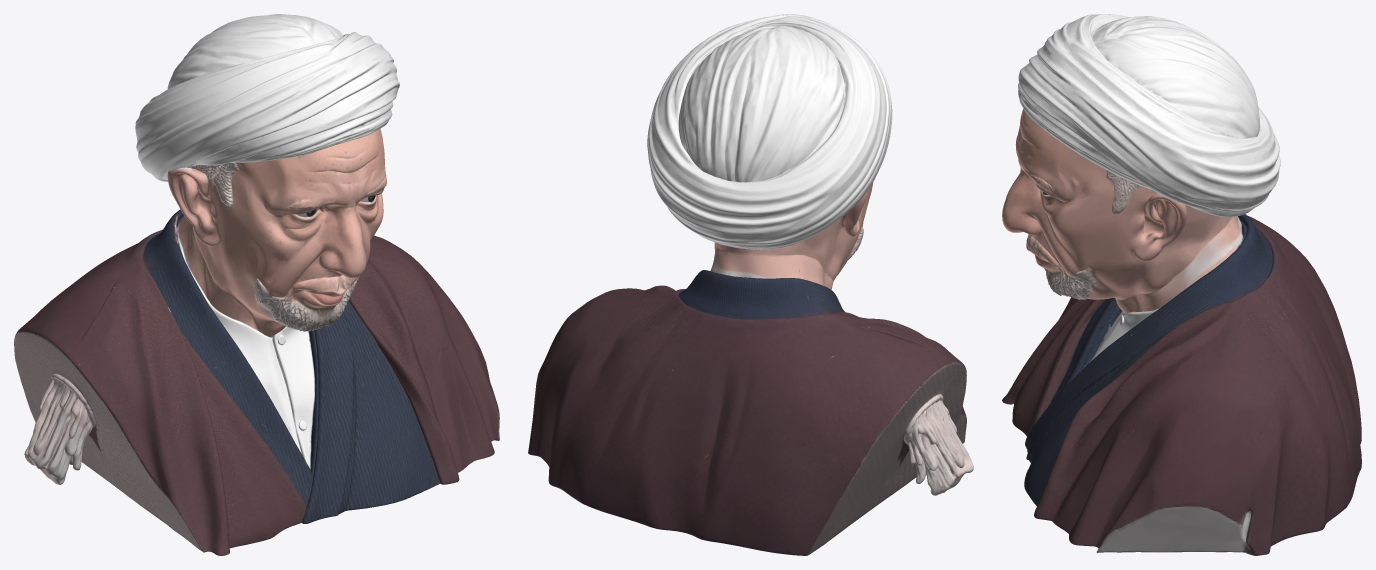
The model's file is waili-mouth.glb.
3 views of the same model, side by side, from view 1: azimuth 30°, elevation 25°; view 2: azimuth 150°, elevation 25°; view 3: azimuth 270°, elevation 25° (orthographic). The views are drawn at different scales.
Parts seen in each view (by area): view 1: character; view 2: character; view 3: character.
Part boxes in pixels (left/top/right/bottom): character: left=14, top=14, right=499, bottom=555; character: left=528, top=14, right=973, bottom=555; character: left=1002, top=14, right=1361, bottom=555.
Size of the model in its own units: 1.9 by 1.85 by 1.39.
Materials: 1 (1 with a texture image).
